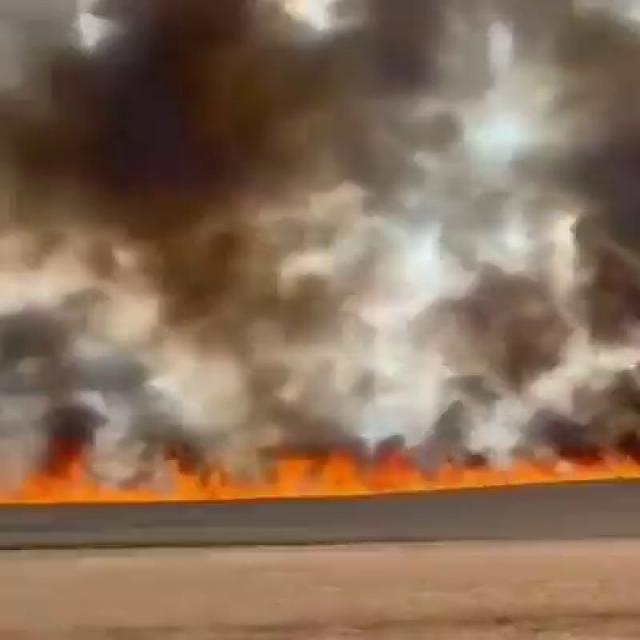Fire: (0, 431, 238, 505), (269, 452, 637, 495)
Smoke: (413, 68, 640, 440), (45, 35, 334, 269), (294, 36, 475, 200)
